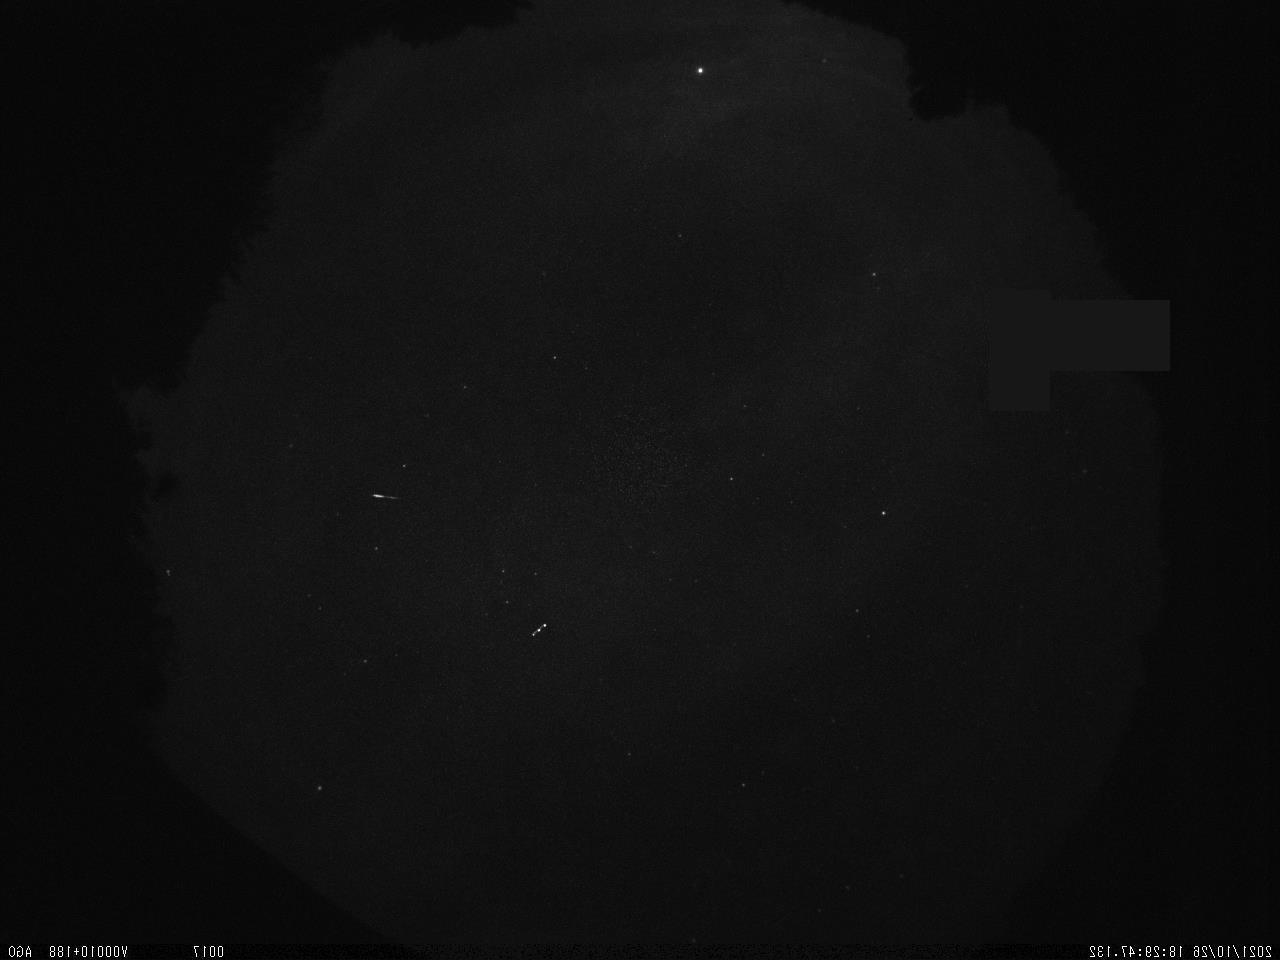meteor: (363, 488, 404, 505)
satelite: (523, 615, 553, 645)
